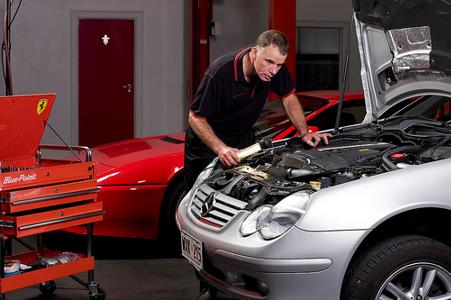person: (184, 28, 333, 295)
